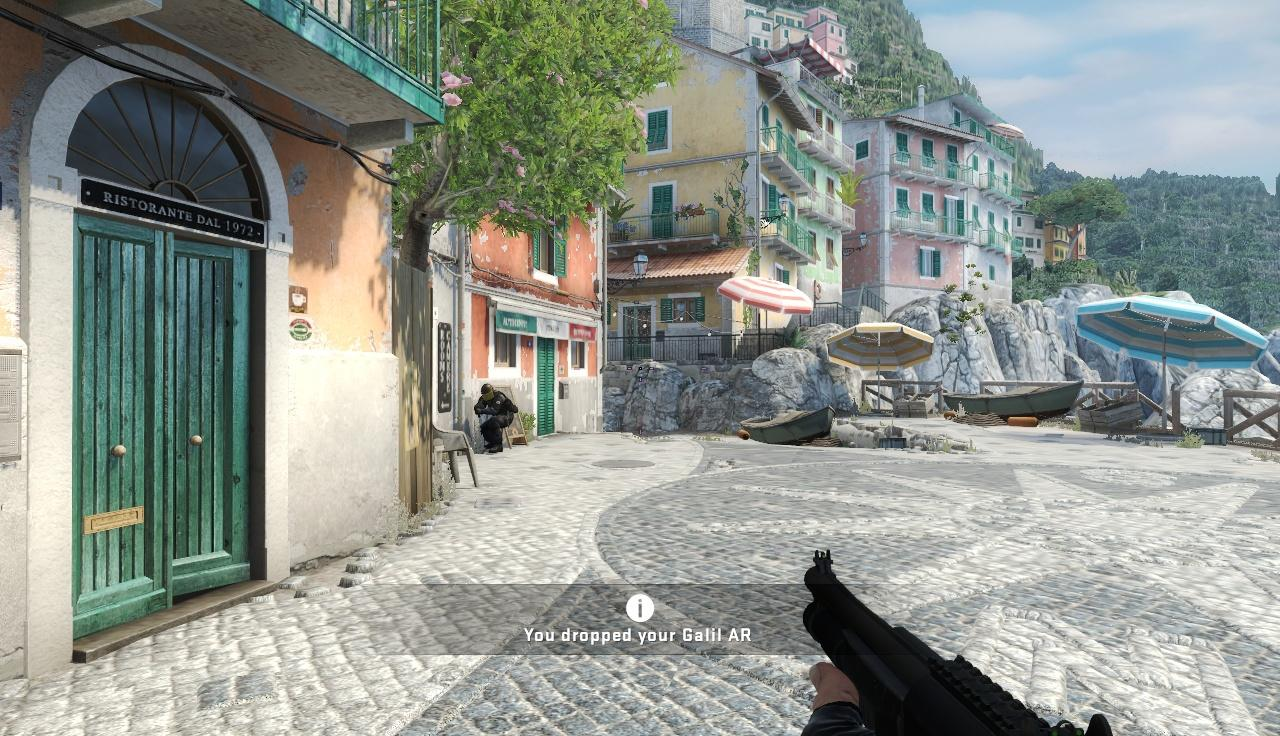ct: (473, 382, 517, 454)
cthead: (480, 383, 494, 401)
shotgun: (799, 547, 1118, 736)
